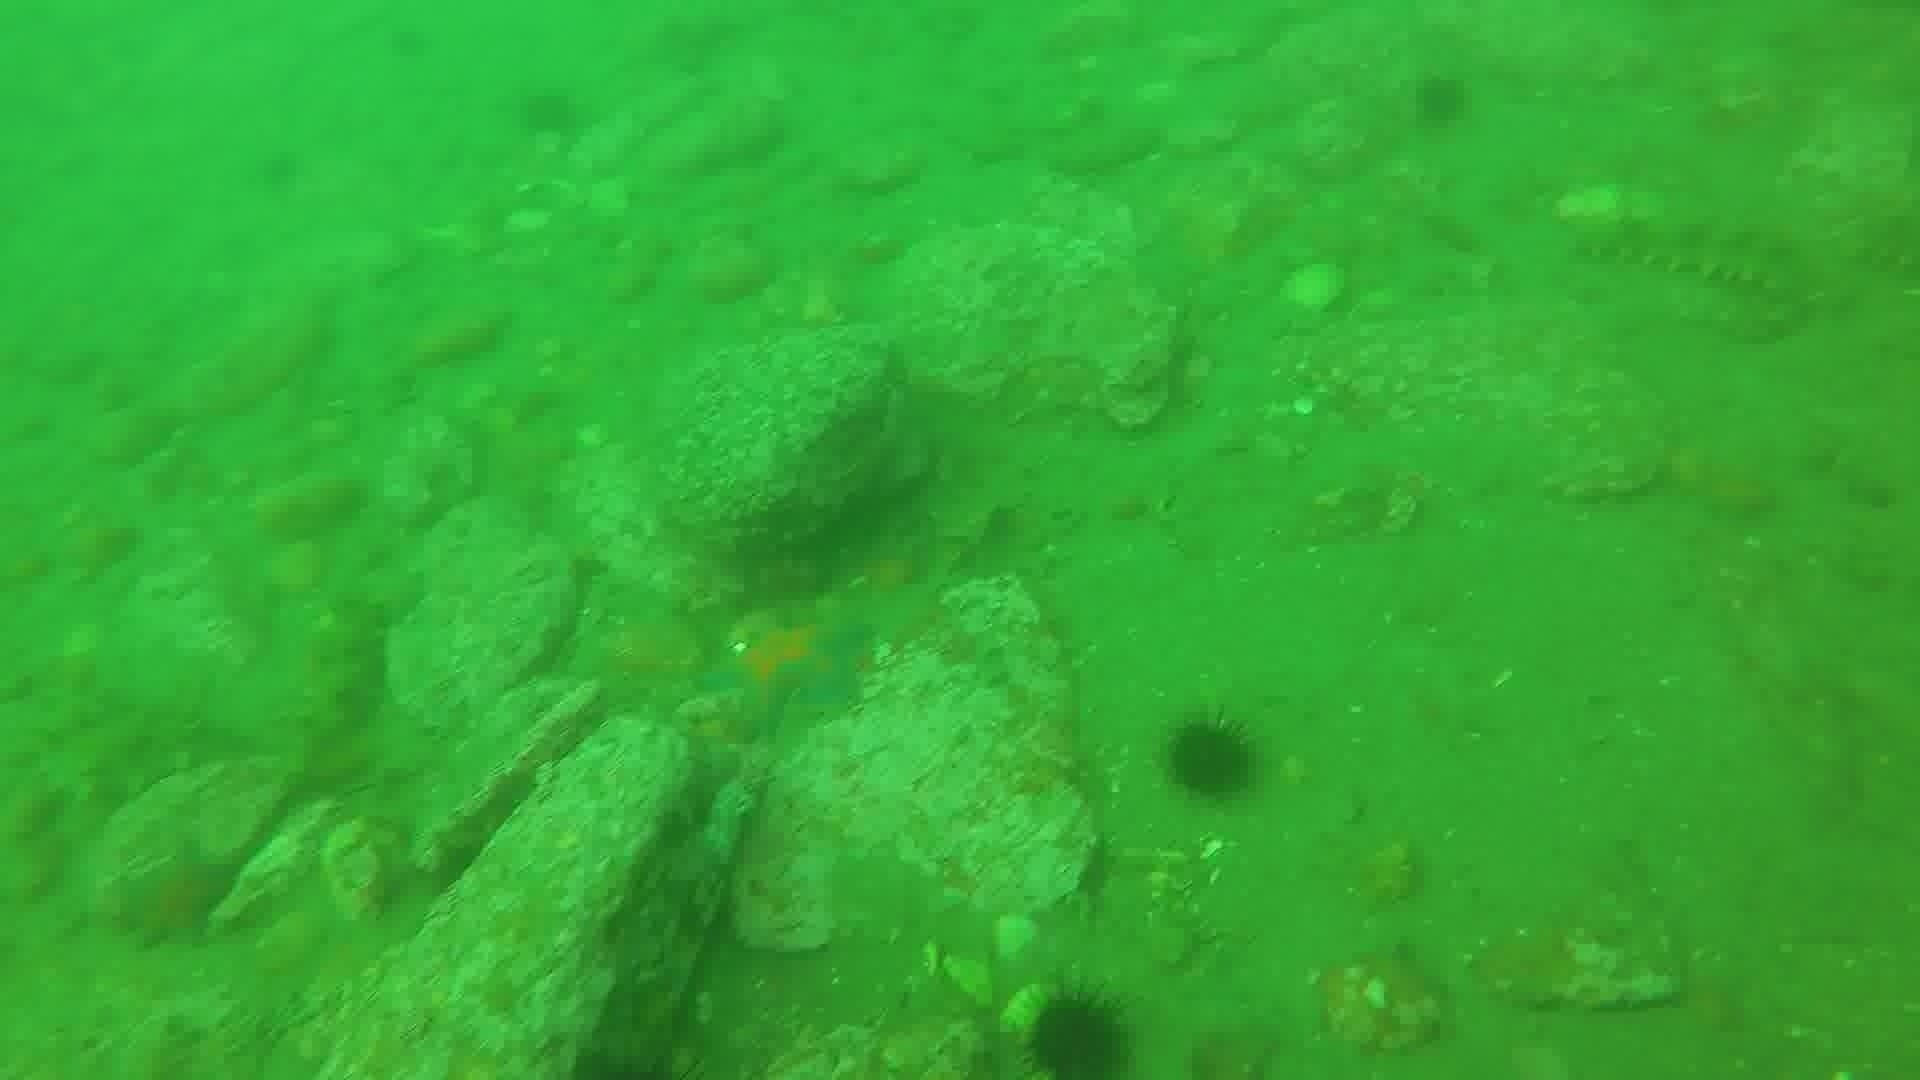echinus: (1017, 986, 1135, 1076), (1160, 712, 1262, 806), (512, 82, 588, 146), (1406, 69, 1476, 133)
holothurian: (21, 694, 261, 812), (1571, 200, 1822, 305), (290, 589, 401, 795)
starfish: (698, 611, 877, 738), (108, 839, 245, 953)
